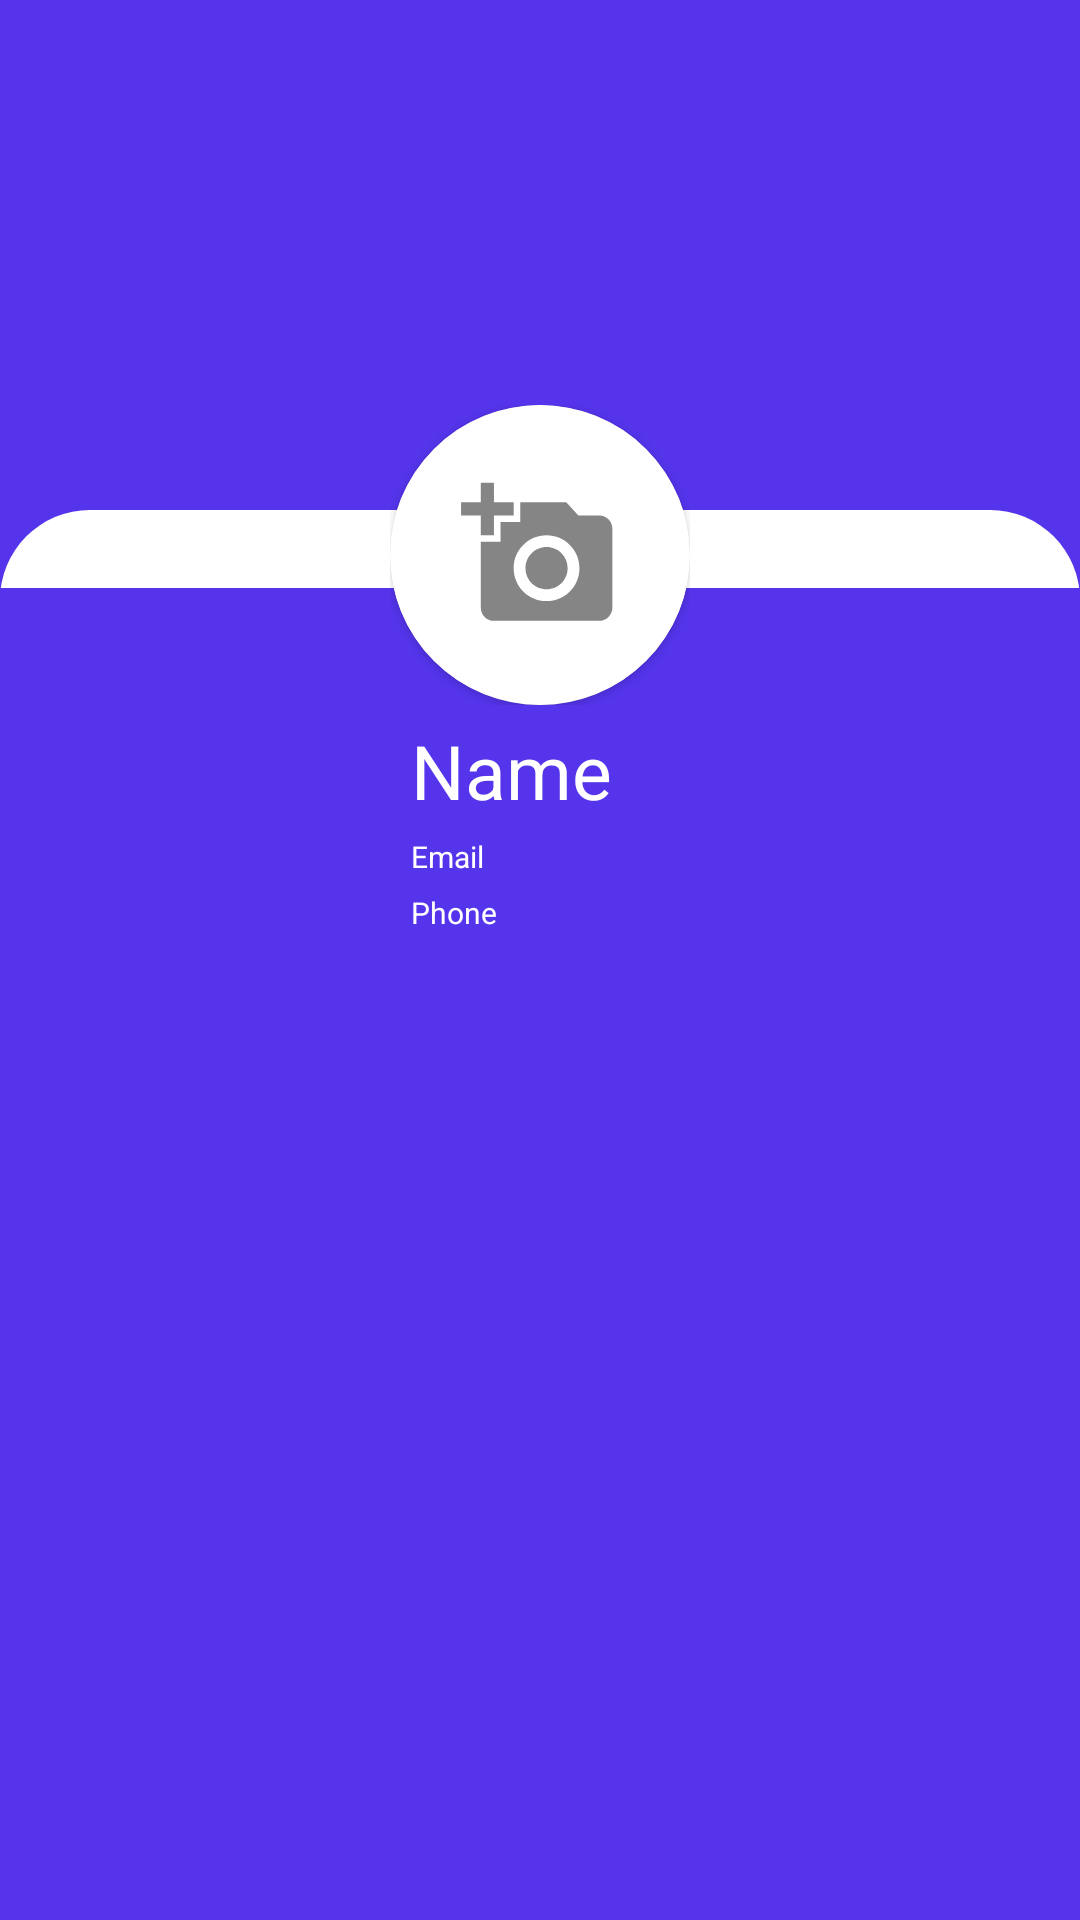

Locate icon controls on the screen. Image size 1080 x 1920, boxes as (x1, y1, x2, y2).
add: (390, 405, 690, 705)
